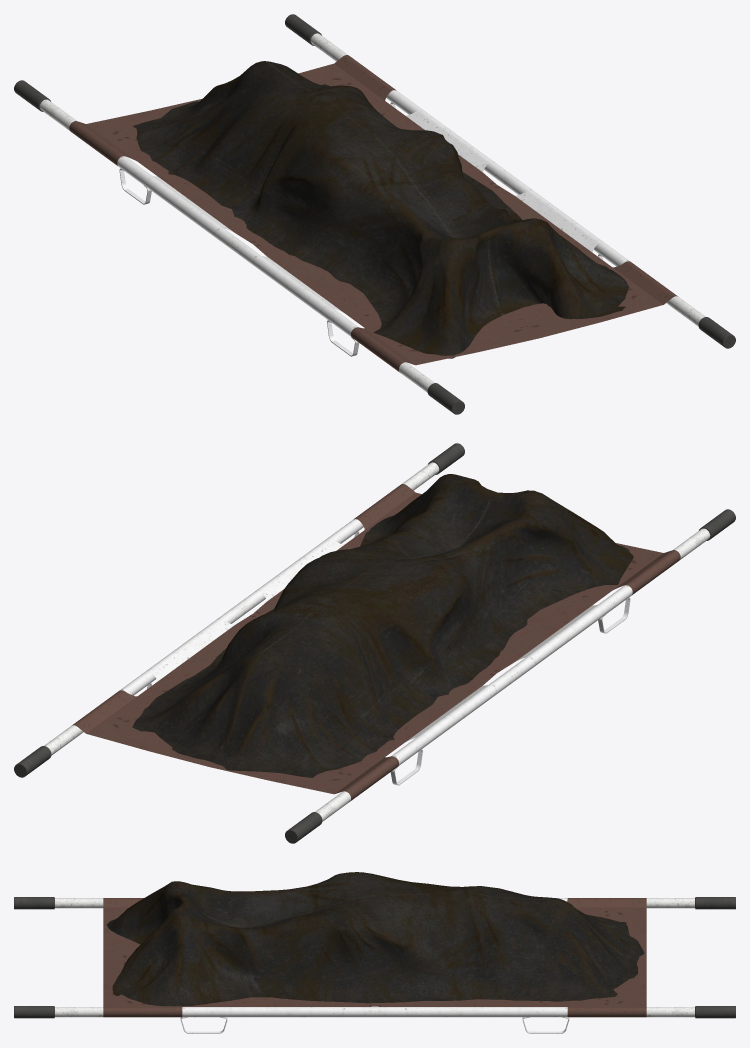
File: SM_Stretcher_Body_Bag02.glb
3 views of the same model, one above another, from view 1: azimuth 30°, elevation 25°; view 2: azimuth 150°, elevation 25°; view 3: azimuth 270°, elevation 25° (orthographic). The views are drawn at different scales.
Visible parts, largest first — view 1: SM_Stretcher_Body_Bag02; view 2: SM_Stretcher_Body_Bag02; view 3: SM_Stretcher_Body_Bag02.
Boxes of the visible parts, left/top/right/bottom form: SM_Stretcher_Body_Bag02: left=14, top=14, right=735, bottom=414; SM_Stretcher_Body_Bag02: left=14, top=443, right=735, bottom=843; SM_Stretcher_Body_Bag02: left=14, top=872, right=735, bottom=1033.
Bounding box in the file's own units: 1.1 × 0.3888 × 2.94.
Materials: 4 (4 with a texture image).
